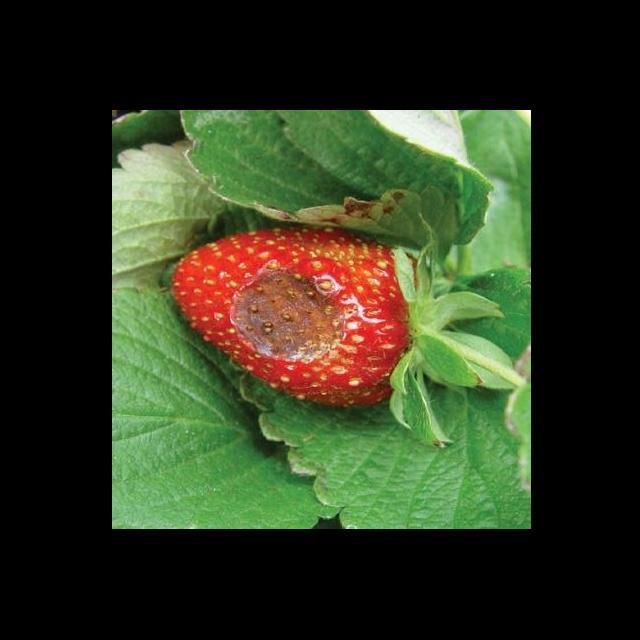Anthracnose Fruit Rot: (227, 261, 349, 368)
